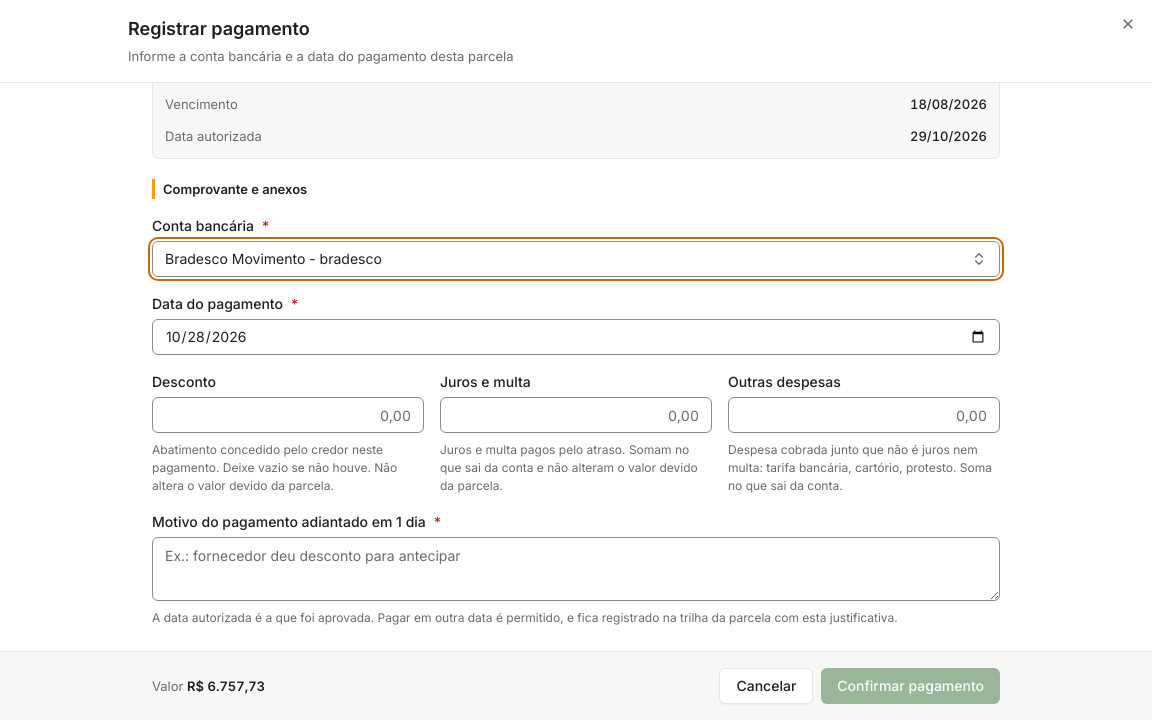
Test: PagarParcelaDrawer, motivo fora da data autorizada › bloqueia o botão sem motivo e libera quando ele é escrito
(page scrolled)
Expected: the button "Confirmar pagamento" is disabled, 821,668 -> 1000,704
Type "  Fornecedor deu desconto para antecipar  " into the text box labelled "Motivo do pagamento adiantado em 1 dia *" at (576, 569), box 152,537 -> 1000,601
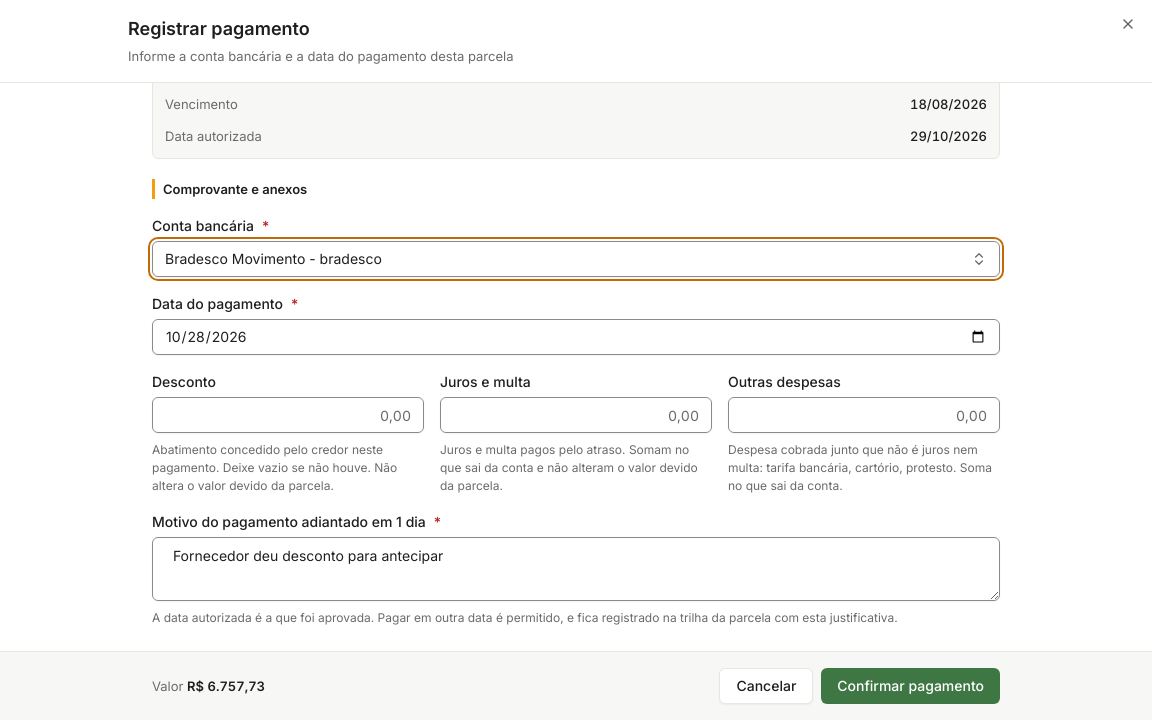
Now the button "Confirmar pagamento" is enabled, box 821,668 -> 1000,704
